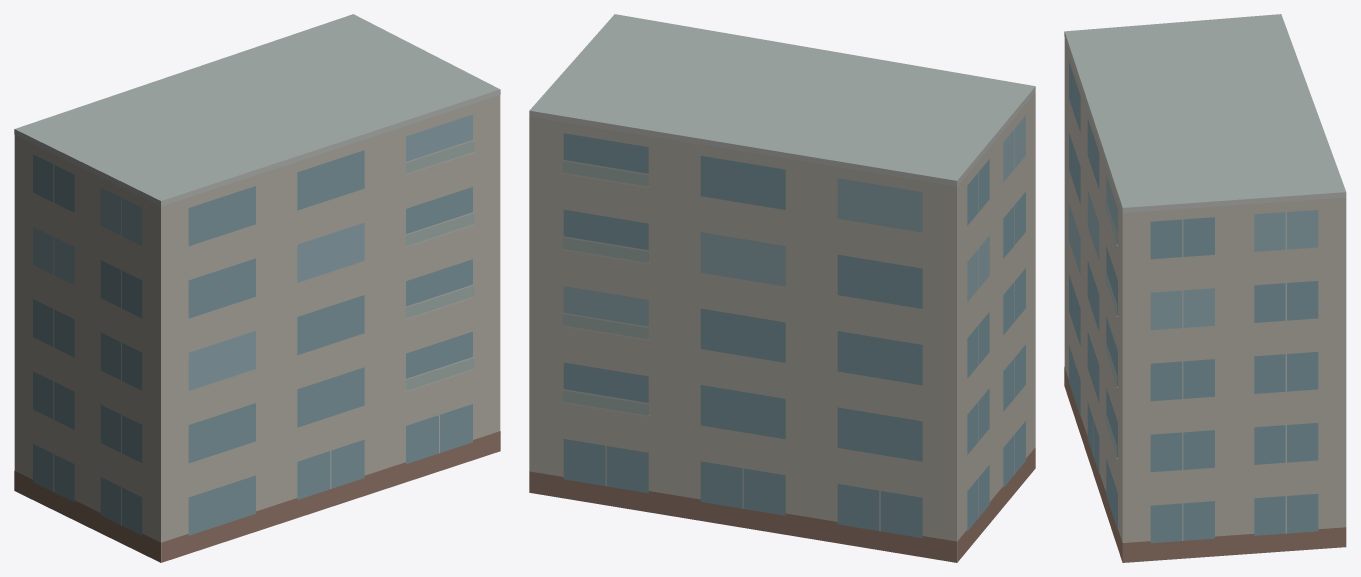
File: survey-upis-32917613.glb
The picture shows the model from 3 angles, left to right: view 1: azimuth 30°, elevation 25°; view 2: azimuth 150°, elevation 25°; view 3: azimuth 270°, elevation 25°; orthographic projection. The views are drawn at different scales.
Parts seen in each view (by area): view 1: survey-upis-32917613.tmp; view 2: survey-upis-32917613.tmp; view 3: survey-upis-32917613.tmp.
Boxes of the visible parts, x1=… form: survey-upis-32917613.tmp: x1=14, y1=14, x2=500, y2=562; survey-upis-32917613.tmp: x1=529, y1=14, x2=1035, y2=562; survey-upis-32917613.tmp: x1=1064, y1=14, x2=1346, y2=562.
Size of the model in its own units: 18.99 by 16.2 by 11.67.
